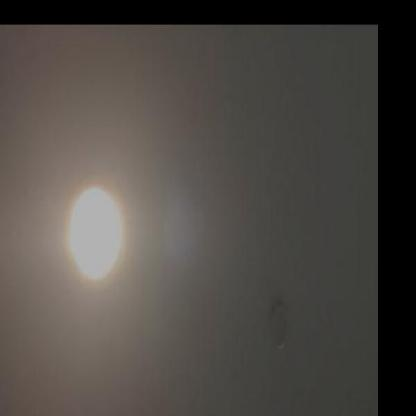light_on: (50, 140, 138, 302)
